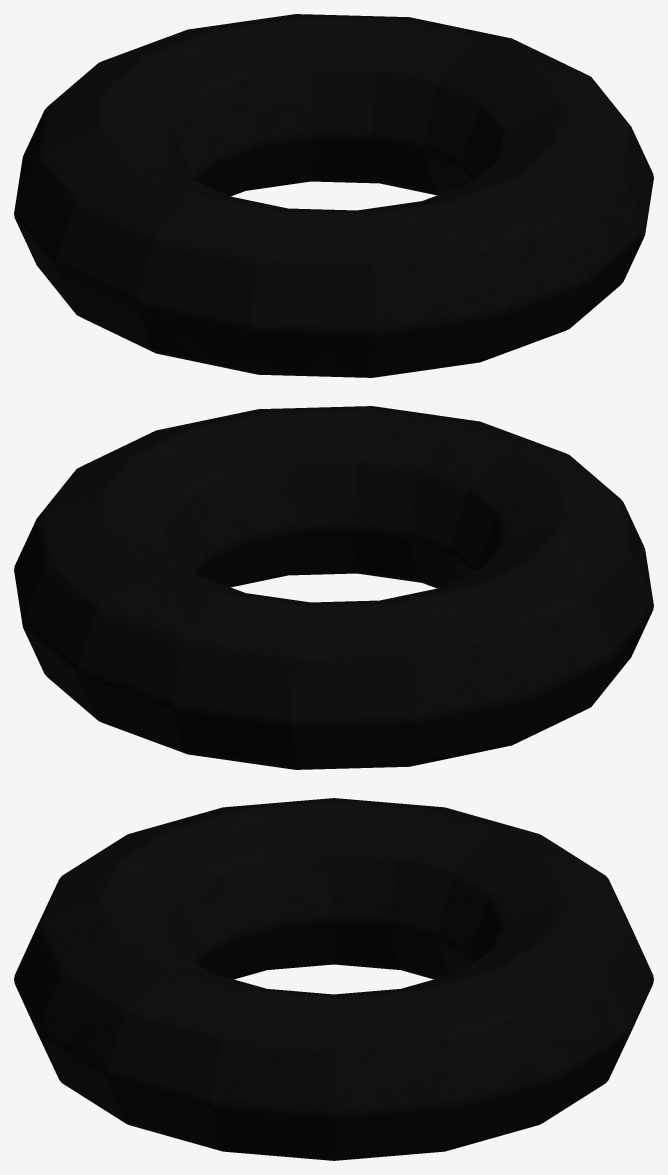
The model's file is PROP-46E9AFECE787_lod0.glb.
3 views of the same model, one above another, from view 1: azimuth 30°, elevation 25°; view 2: azimuth 150°, elevation 25°; view 3: azimuth 270°, elevation 25° (orthographic).
Parts seen in each view (by area): view 1: discarded_tire; view 2: discarded_tire; view 3: discarded_tire.
Boxes of the visible parts, left/top/right/bottom form: discarded_tire: left=14, top=14, right=653, bottom=377; discarded_tire: left=14, top=406, right=653, bottom=769; discarded_tire: left=14, top=798, right=653, bottom=1160.
Bounding box in the file's own units: 0.9364 × 0.2564 × 0.9364.
1 material, 1 textured.
